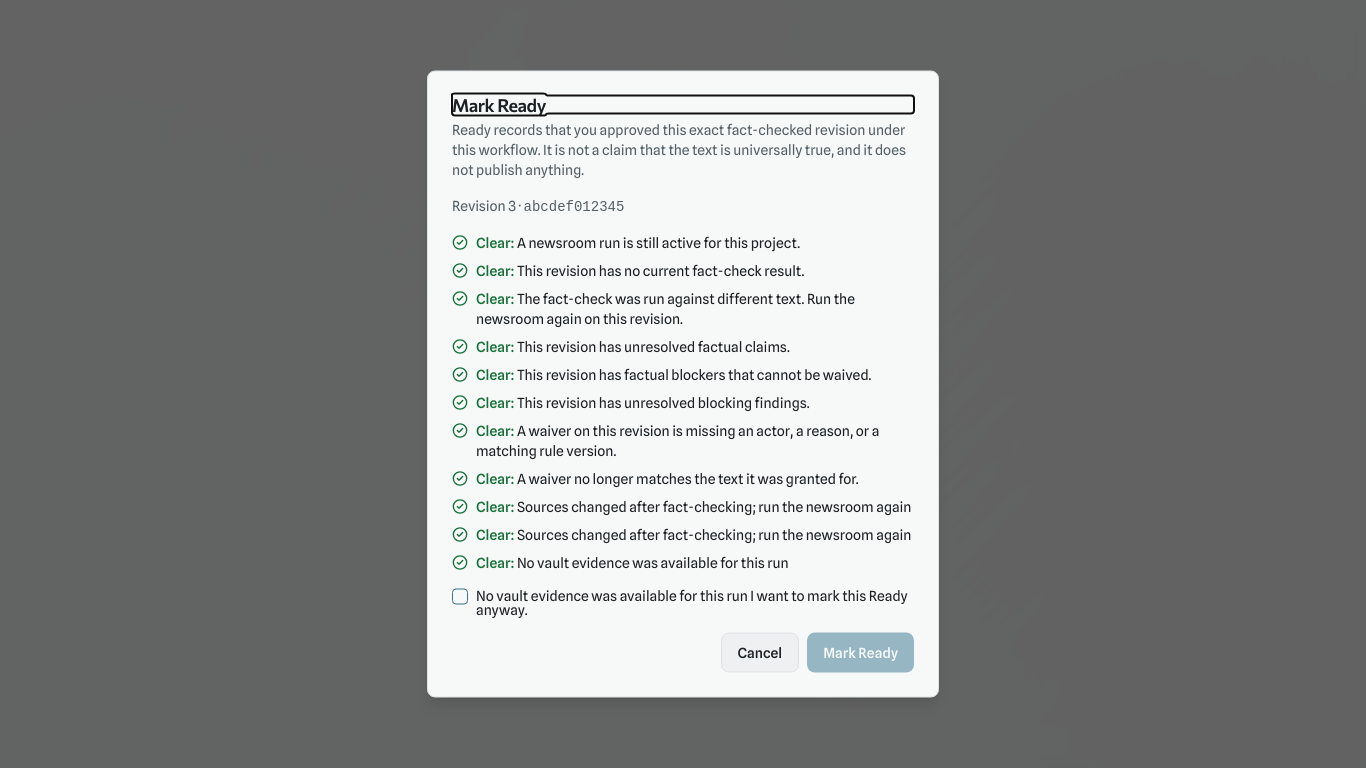
Test: DraftReadyDialog › disables submit while a required source-only acknowledgment is unchecked, and enables it once checked
Expected: the button "Mark Ready" is disabled, [807,632,914,672]
Click the checkbox at (460, 596), box [452,588,468,604]
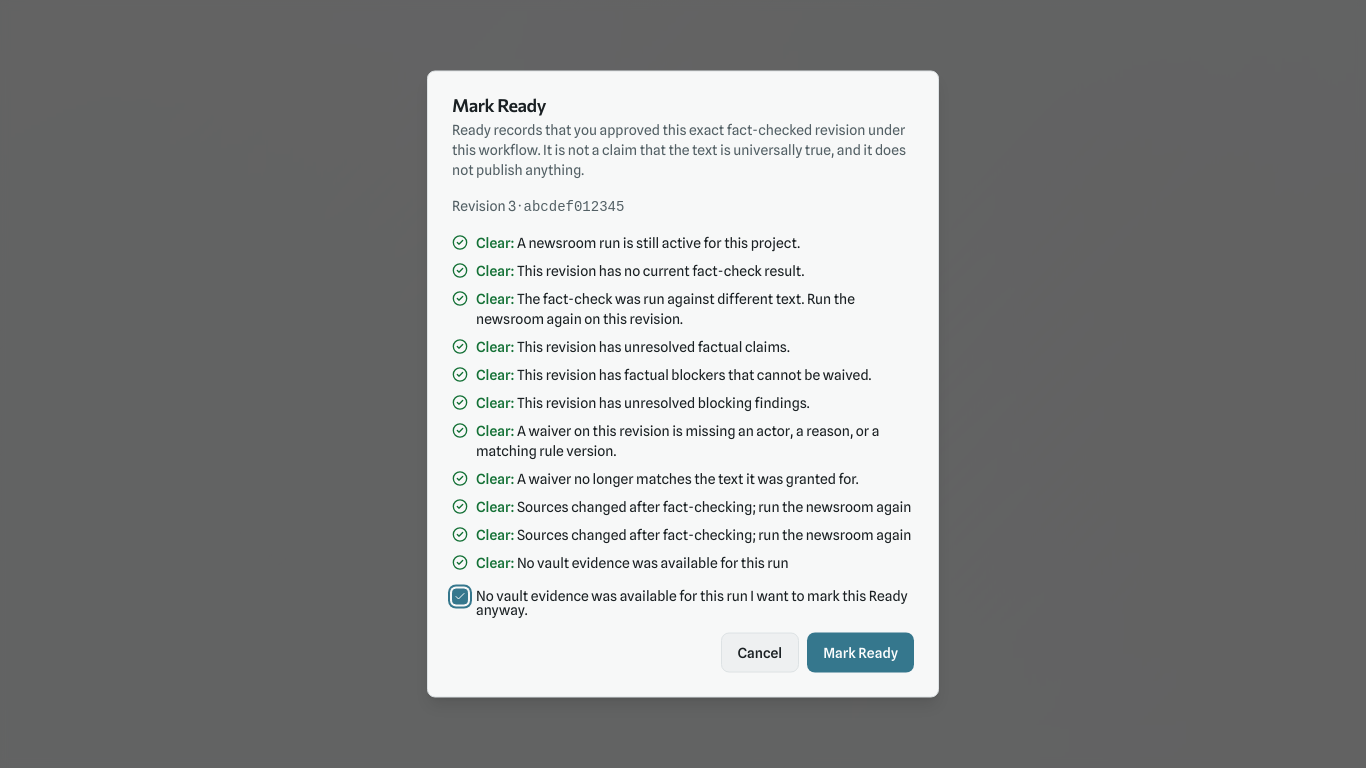
Result: the button "Mark Ready" is enabled at [807,632,914,672]
